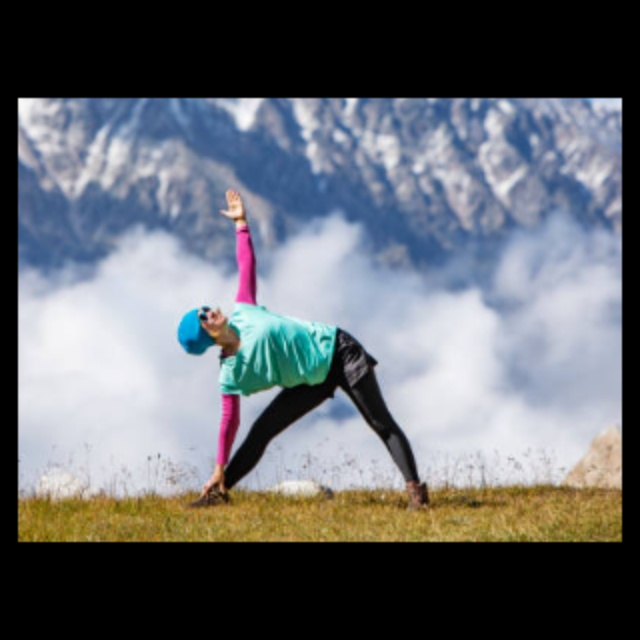Triangle_Pose: (168, 179, 448, 515)
